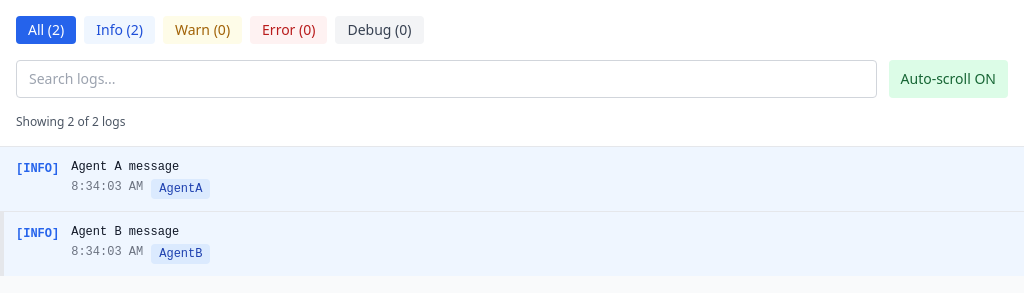
RealTimeLogs › should search logs by source
Type "AgentA" into the field with placeholder "Search logs..." at (446,79), box [16,60,876,98]
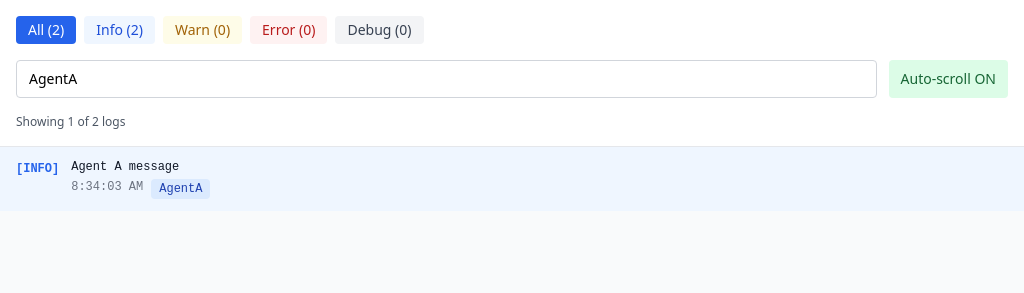
Expected: the text "Agent A message" is shown, [71,160,179,174]
Now the text "Agent B message" is gone
